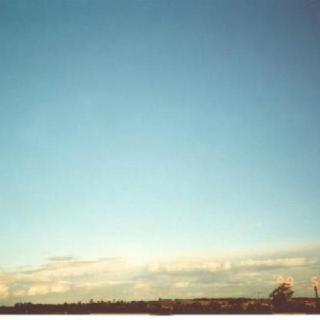Stratocumulus: (0, 250, 320, 294)
